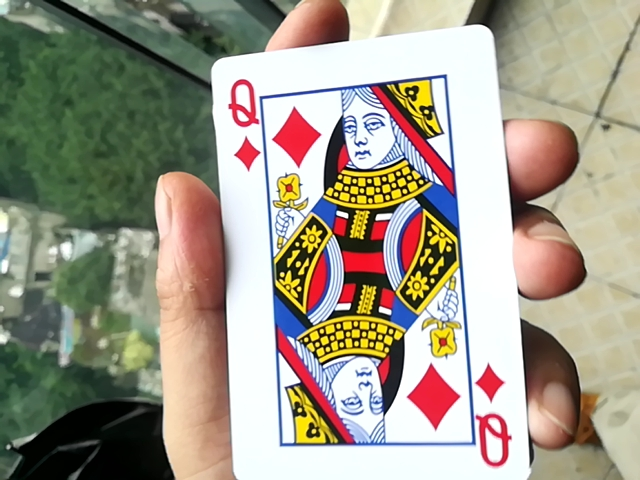fk q: (199, 29, 536, 480)
